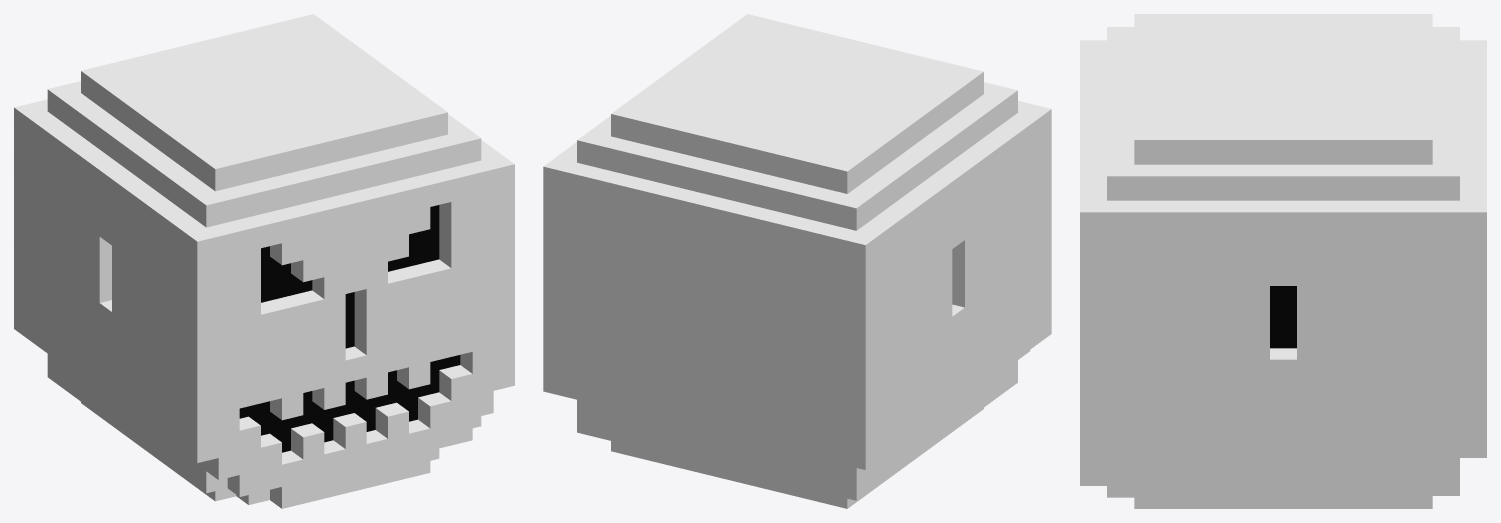
Rendered from tete.dae.
The picture shows the model from 3 angles, left to right: view 1: azimuth 30°, elevation 25°; view 2: azimuth 150°, elevation 25°; view 3: azimuth 270°, elevation 25°; orthographic projection. The views are drawn at different scales.
Parts seen in each view (by area): view 1: Skull; view 2: Skull; view 3: Skull.
Boxes of the visible parts, left/top/right/bottom form: Skull: left=14, top=14, right=514, bottom=508; Skull: left=543, top=14, right=1051, bottom=508; Skull: left=1080, top=14, right=1486, bottom=508.
Size of the model in its own units: 15 by 15 by 15.
1 material, 1 textured.
